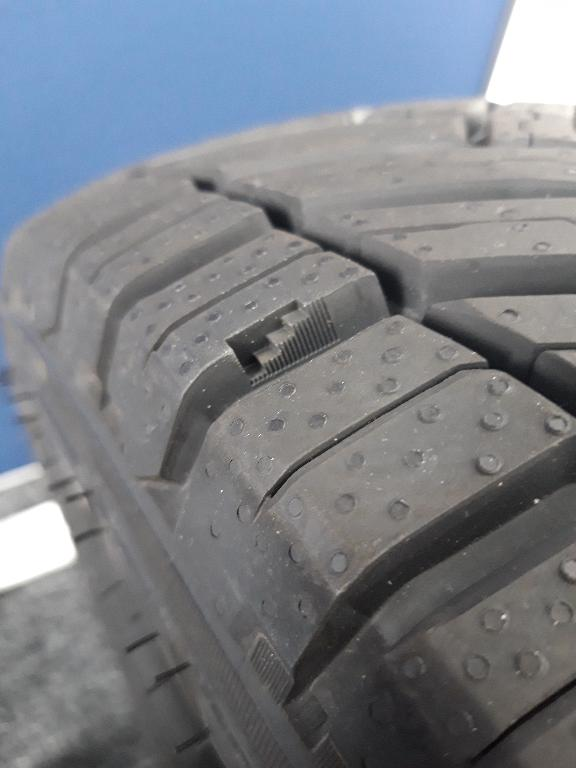temoin:100: (218, 290, 345, 392)
